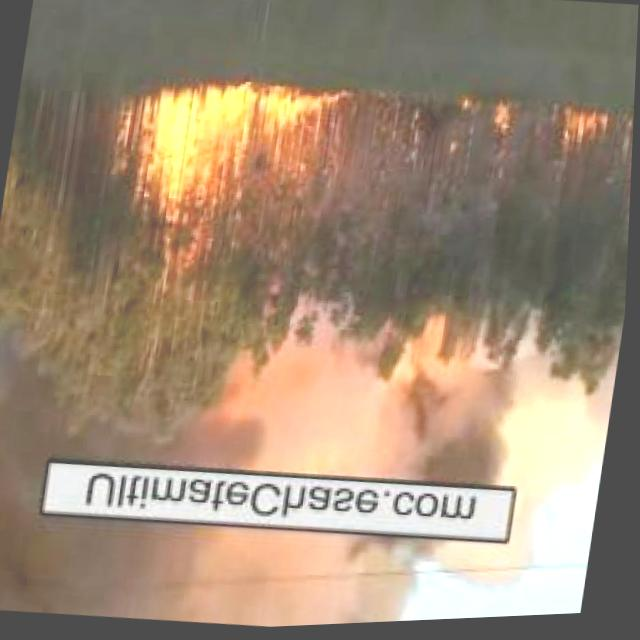helmet: (0, 271, 627, 524), (0, 497, 444, 640), (129, 75, 339, 228), (553, 113, 620, 172), (493, 106, 519, 145)
